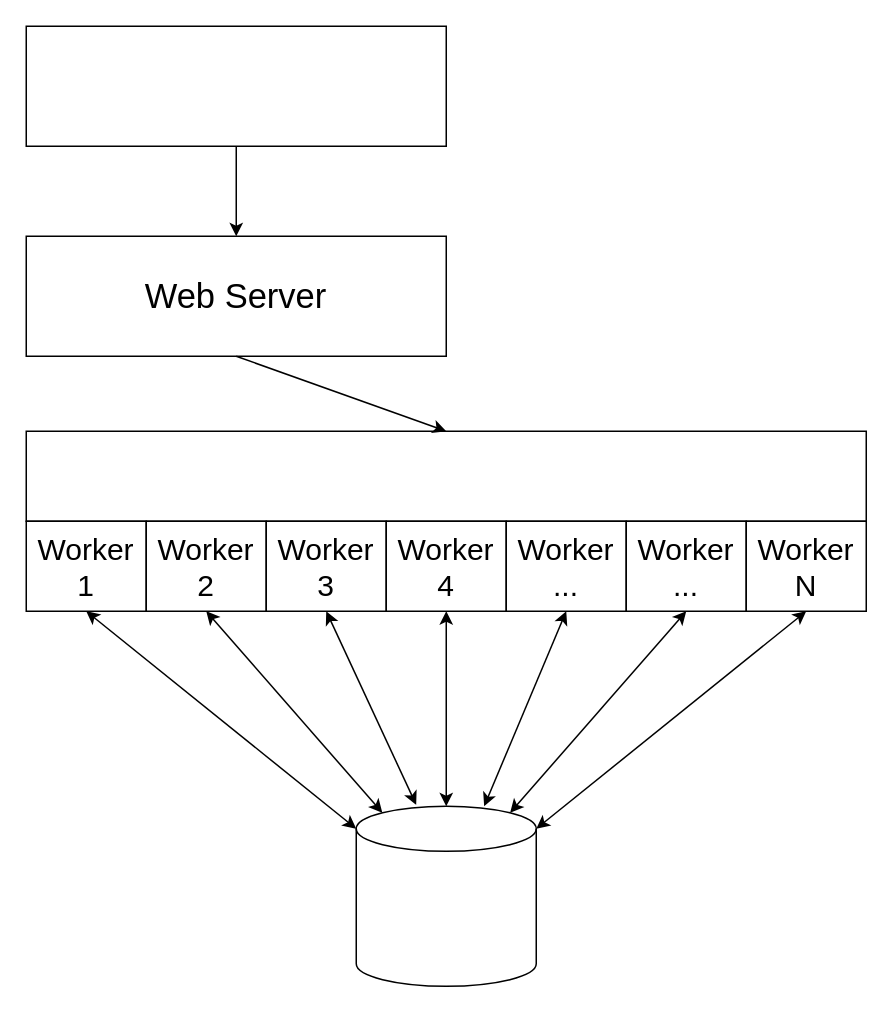
Some shapes in this 893 by 1013 pixel diagram are drawn without their labels. Here are the shapes that lost their labels. From the top down, the box of each, then its label:
(25, 25, 446, 146): Telegram Webhook
(25, 430, 866, 521): Daemon
(355, 805, 536, 986): Database
